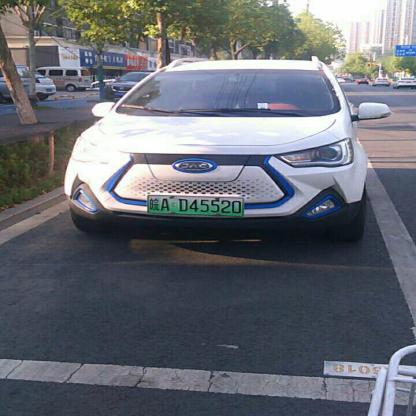lp: (147, 194, 243, 215)
